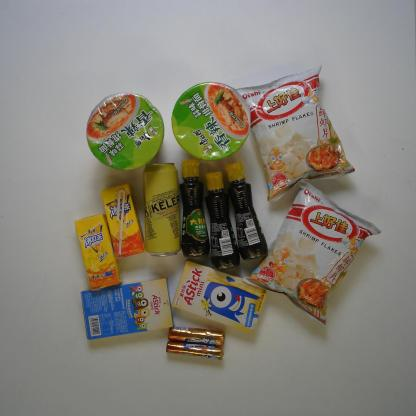Alcohol: (140, 157, 184, 261)
Candy: (163, 322, 227, 349), (162, 340, 227, 362)
Dessert: (171, 258, 274, 335), (79, 273, 176, 342)
Drink: (72, 213, 126, 293), (95, 181, 146, 261)
Instant Noodles: (168, 81, 253, 164), (83, 90, 167, 173)
Puffed Food: (242, 175, 384, 330), (231, 60, 357, 204)
Seasoner: (203, 168, 245, 276), (225, 159, 269, 262), (178, 157, 214, 261)
